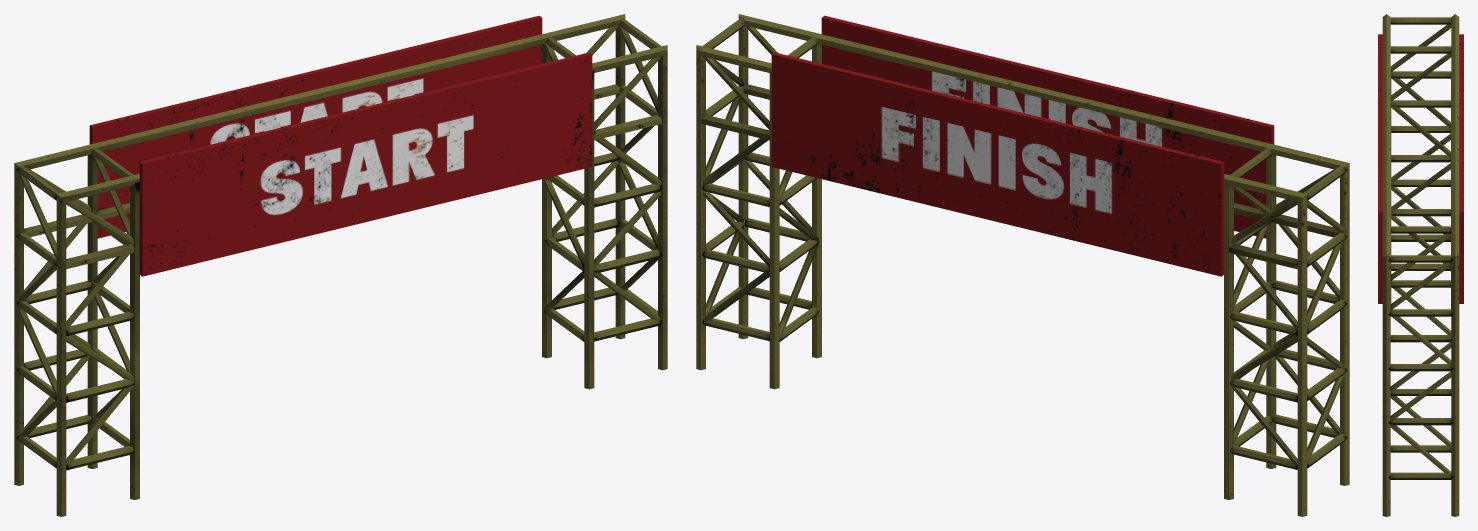
The model's file is Checkpointboard_08.fbx.
3 views of the same model, side by side, from view 1: azimuth 30°, elevation 25°; view 2: azimuth 150°, elevation 25°; view 3: azimuth 270°, elevation 25° (orthographic). The views are drawn at different scales.
Parts seen in each view (by area): view 1: Stand, Board_01, Board_02; view 2: Stand, Board_02, Board_01; view 3: Stand, Board_01, Board_02.
Part boxes in pixels (bbox=[...]): Stand: bbox=[14, 14, 667, 516]; Board_01: bbox=[139, 52, 592, 276]; Board_02: bbox=[89, 15, 542, 238]; Stand: bbox=[696, 14, 1349, 516]; Board_02: bbox=[771, 52, 1224, 276]; Board_01: bbox=[821, 15, 1274, 238]; Stand: bbox=[1382, 14, 1459, 516]; Board_01: bbox=[1378, 34, 1382, 303]; Board_02: bbox=[1459, 34, 1463, 303].
Size of the model in its own units: 1.87 by 0.9881 by 0.2815.
